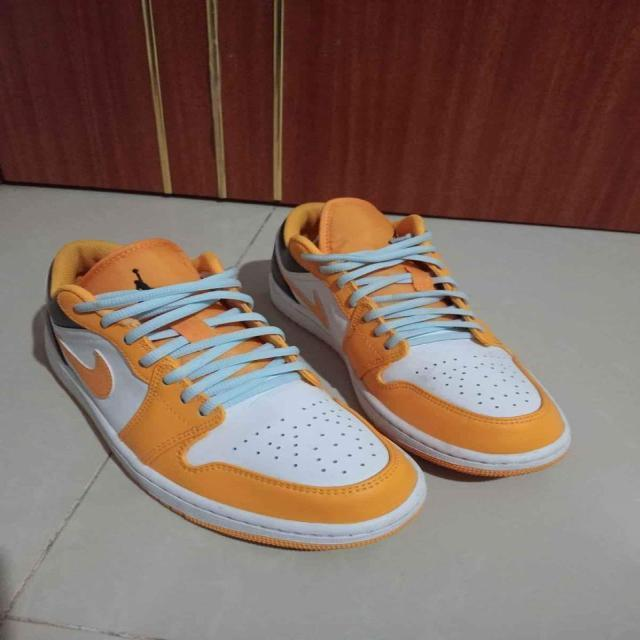nike original jordan 1: (39, 238, 434, 548), (268, 197, 572, 480)
